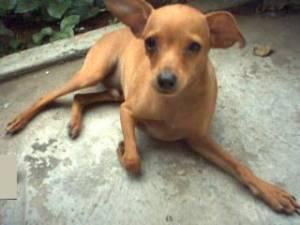dog-miniature_pinscher: (101, 0, 245, 98)
